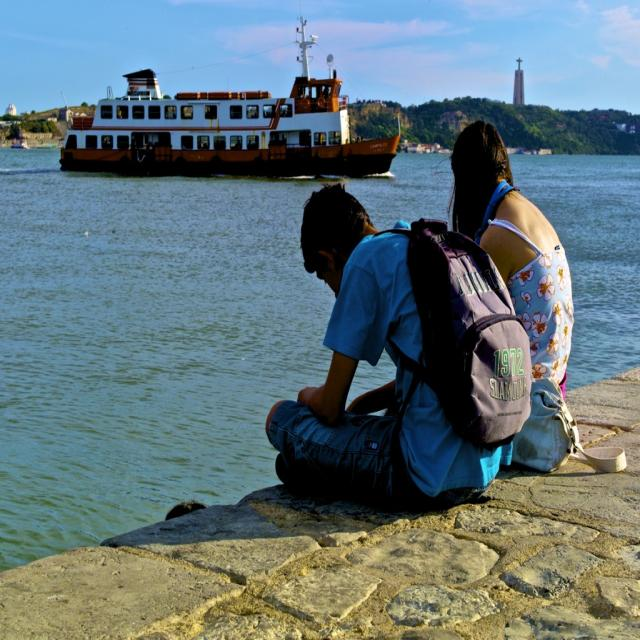backpack: (361, 218, 531, 440), (508, 366, 580, 477)
